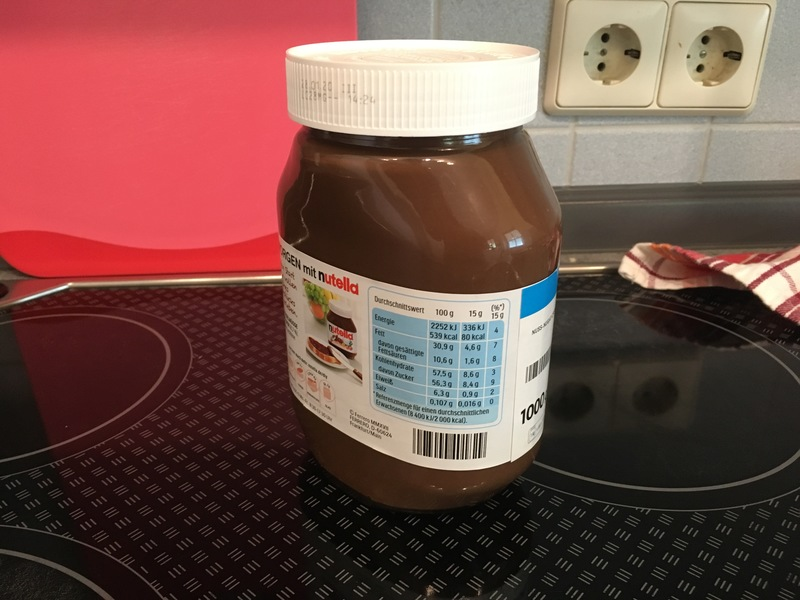nutella: (278, 39, 561, 513)
